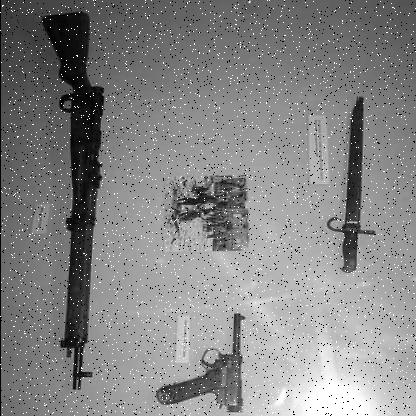rifle: (14, 6, 126, 398)
